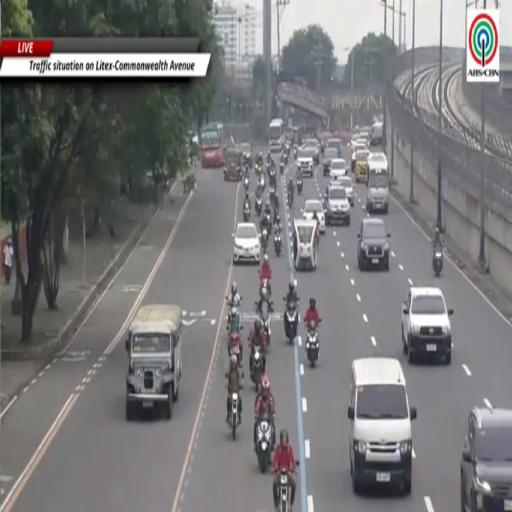bus: (200, 122, 225, 167), (269, 119, 285, 152)
car: (348, 358, 417, 494), (461, 408, 511, 511), (402, 287, 453, 364), (357, 218, 390, 270), (293, 219, 317, 270), (233, 222, 260, 263), (325, 184, 350, 226), (303, 200, 325, 233), (297, 148, 314, 177), (336, 176, 353, 205), (354, 150, 369, 182), (304, 138, 320, 165), (352, 143, 367, 171), (323, 148, 338, 175), (239, 142, 253, 167), (367, 152, 388, 168), (370, 122, 383, 146), (326, 138, 342, 157), (331, 158, 347, 174), (358, 132, 369, 146)
jeepney: (126, 304, 182, 421), (224, 148, 242, 181), (354, 150, 369, 182)
motorcycle: (256, 416, 274, 473), (256, 298, 272, 348), (250, 346, 265, 393), (306, 320, 320, 367), (258, 299, 272, 346), (284, 302, 299, 344), (278, 469, 291, 511), (229, 332, 242, 366), (230, 393, 239, 440), (227, 307, 241, 333), (432, 251, 443, 277), (259, 279, 270, 300), (261, 212, 272, 233), (226, 295, 241, 308), (274, 231, 282, 255), (261, 229, 268, 253), (243, 203, 250, 223), (255, 197, 262, 216), (269, 171, 276, 188), (259, 173, 265, 189), (297, 179, 303, 195), (270, 185, 275, 204), (288, 189, 293, 207), (244, 178, 249, 191), (285, 149, 289, 165), (280, 162, 284, 174), (294, 148, 297, 159)
